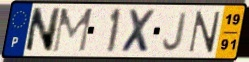1: (105, 7, 122, 55)
J: (161, 11, 190, 53)
M: (50, 7, 95, 54)
N: (23, 6, 63, 54), (186, 10, 223, 54)
X: (119, 8, 158, 55)
